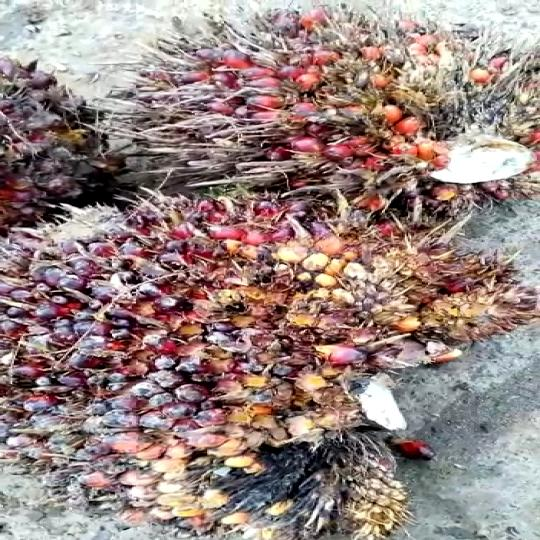masak: (0, 198, 540, 540), (107, 0, 538, 244)
